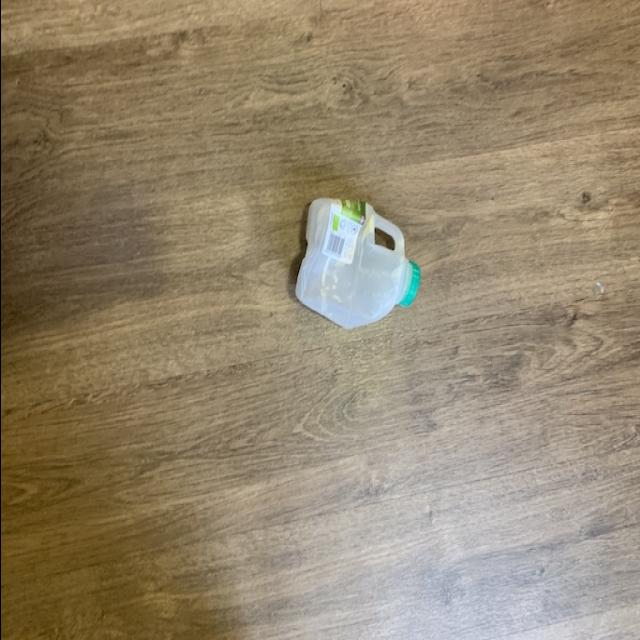HDPEM: (285, 191, 422, 335)
